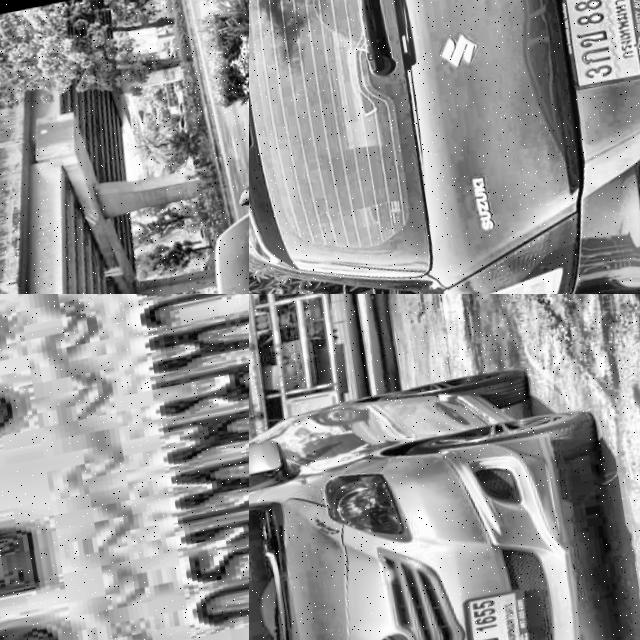license-plate: (0, 294, 249, 640), (548, 0, 640, 97), (461, 588, 549, 640)
